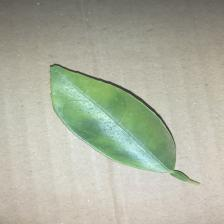greening: (44, 60, 204, 185)
